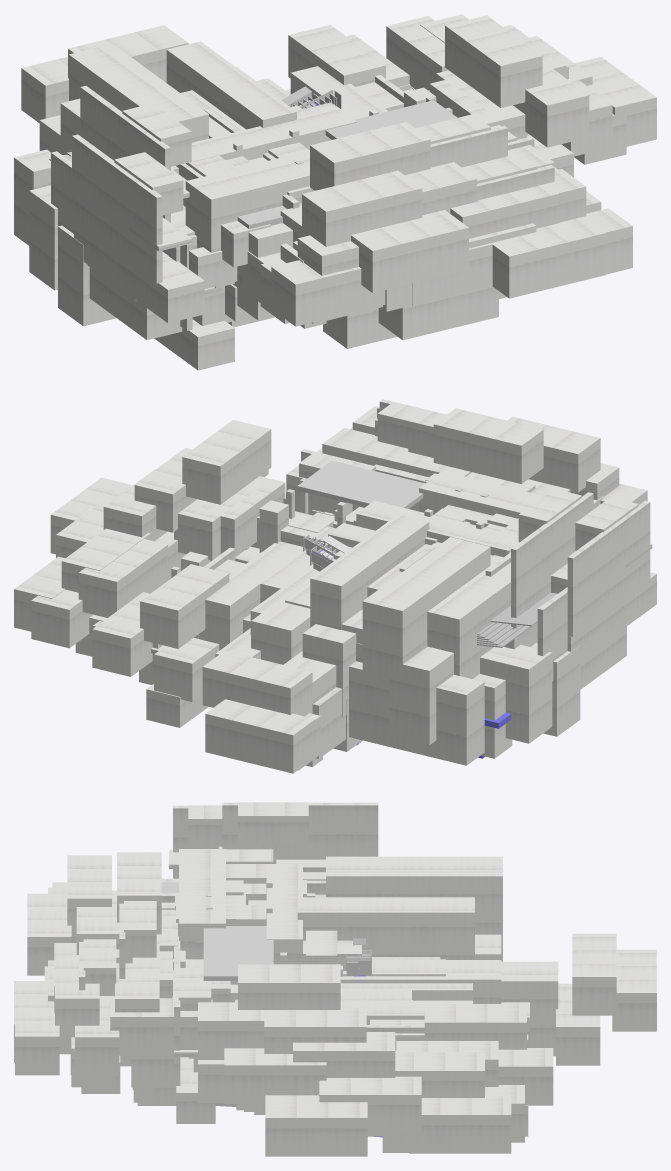
File: PROBUILDER KINGDOM.fbx
3 renders of one model, top to bottom at view 1: azimuth 30°, elevation 25°; view 2: azimuth 150°, elevation 25°; view 3: azimuth 270°, elevation 25°, orthographic. The views are drawn at different scales.
Parts seen in each view (by area): view 1: pb_Cube_3885985, pb_Cube_3885979, pb_Cube_1676871, pb_Cube_103619, pb_Cube_1676872, pb_Cube_1676866, pb_Cube_881689, pb_Cube_881688, pb_Cube_1676869, pb_Cube_3885977, pb_Cube_103623, pb_Cube_1676875 (+14 smaller); view 2: pb_Cube_3885979, pb_Cube_1676866, pb_Cube_1676871, pb_Cube_3885985, pb_Cube_1676869, pb_Cube_103610, pb_Cube_3885977, pb_Cube_1676864, pb_Cube_1676865, pb_Cube_1676874, pb_Cube_1676875, pb_Cube_103621 (+11 smaller); view 3: pb_Cube_3885979, pb_Cube_1676871, pb_Cube_1676874, pb_Cube_1676872, pb_Cube_103610, pb_Cube_1676869, pb_Cube_1676865, pb_Cube_3885985, pb_Cube_103623, pb_Cube_1676866, pb_Cube_1676868, pb_Cube_103619 (+8 smaller).
Boxes of the visible parts, box(x1,y1,x2,y2) form: pb_Cube_3885985: box(60, 90, 468, 323); pb_Cube_3885979: box(69, 41, 477, 262); pb_Cube_1676871: box(185, 15, 566, 252); pb_Cube_103619: box(261, 159, 605, 328); pb_Cube_1676872: box(232, 69, 612, 320); pb_Cube_1676866: box(14, 25, 409, 290); pb_Cube_881689: box(154, 205, 498, 370); pb_Cube_881688: box(189, 247, 385, 326); pb_Cube_1676869: box(21, 25, 403, 122); pb_Cube_3885977: box(39, 115, 302, 339); pb_Cube_103623: box(263, 88, 632, 274); pb_Cube_1676875: box(58, 82, 410, 327); pb_Cube_3885979: box(310, 408, 593, 683); pb_Cube_1676866: box(92, 564, 552, 765); pb_Cube_1676871: box(134, 399, 594, 559); pb_Cube_3885985: box(367, 416, 656, 678); pb_Cube_1676869: box(146, 547, 322, 773); pb_Cube_103610: box(199, 428, 470, 664); pb_Cube_3885977: box(356, 479, 626, 745); pb_Cube_1676864: box(31, 525, 335, 648); pb_Cube_1676865: box(14, 511, 337, 684); pb_Cube_1676874: box(56, 449, 427, 570); pb_Cube_1676875: box(145, 559, 580, 758); pb_Cube_103621: box(250, 444, 504, 717); pb_Cube_3885979: box(76, 802, 502, 964); pb_Cube_1676871: box(119, 849, 366, 1055); pb_Cube_1676874: box(174, 941, 421, 1133); pb_Cube_1676872: box(79, 936, 326, 1103); pb_Cube_103610: box(75, 905, 501, 1087); pb_Cube_1676869: box(366, 933, 656, 1136); pb_Cube_1676865: box(382, 1052, 511, 1153); pb_Cube_3885985: box(27, 805, 325, 975); pb_Cube_103623: box(15, 905, 412, 1111); pb_Cube_1676866: box(340, 965, 553, 1105); pb_Cube_1676868: box(236, 1099, 367, 1156); pb_Cube_103619: box(14, 892, 440, 1090).
Bounding box in the file's own units: 9315 × 3765 × 10240.
Materials: 4 (3 with a texture image).
